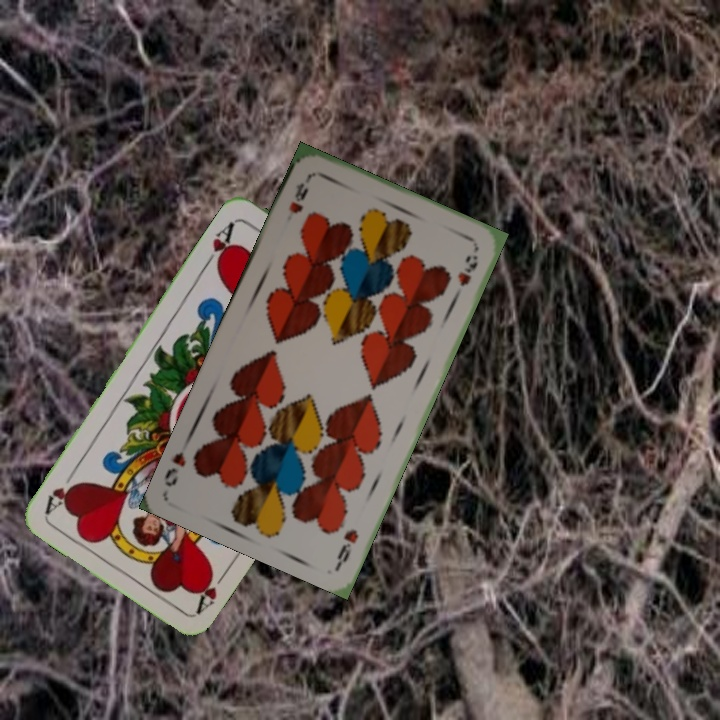H9: (285, 172, 313, 216), (333, 525, 361, 568)
HA: (190, 564, 232, 616), (200, 218, 239, 271)
